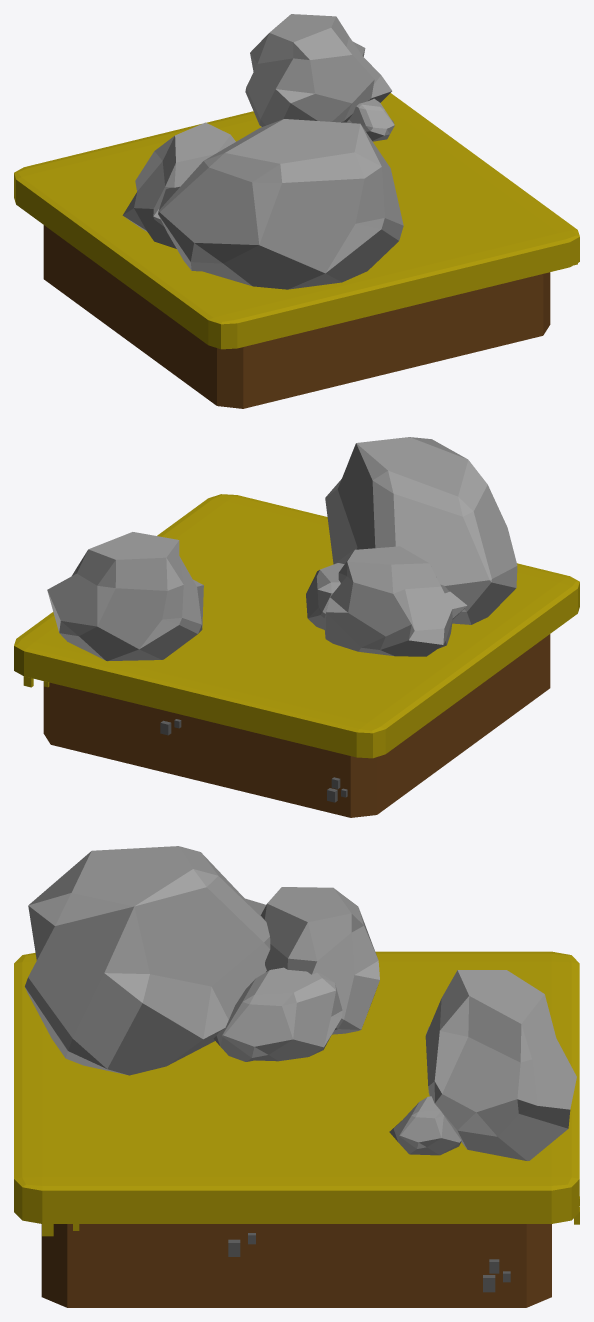
Rendered from Tilemap-kaillou-project happiness.fbx.
3 renders of one model, top to bottom at view 1: azimuth 30°, elevation 25°; view 2: azimuth 150°, elevation 25°; view 3: azimuth 270°, elevation 25°, orthographic. The views are drawn at different scales.
Parts seen in each view (by area): view 1: Cube.141; view 2: Cube.141; view 3: Cube.141.
Part boxes in pixels (<box>): Cube.141: <box>14,14,579,408</box>; Cube.141: <box>14,437,579,817</box>; Cube.141: <box>14,846,579,1307</box>.
Bounding box in the file's own units: 5 × 2.95 × 5.
